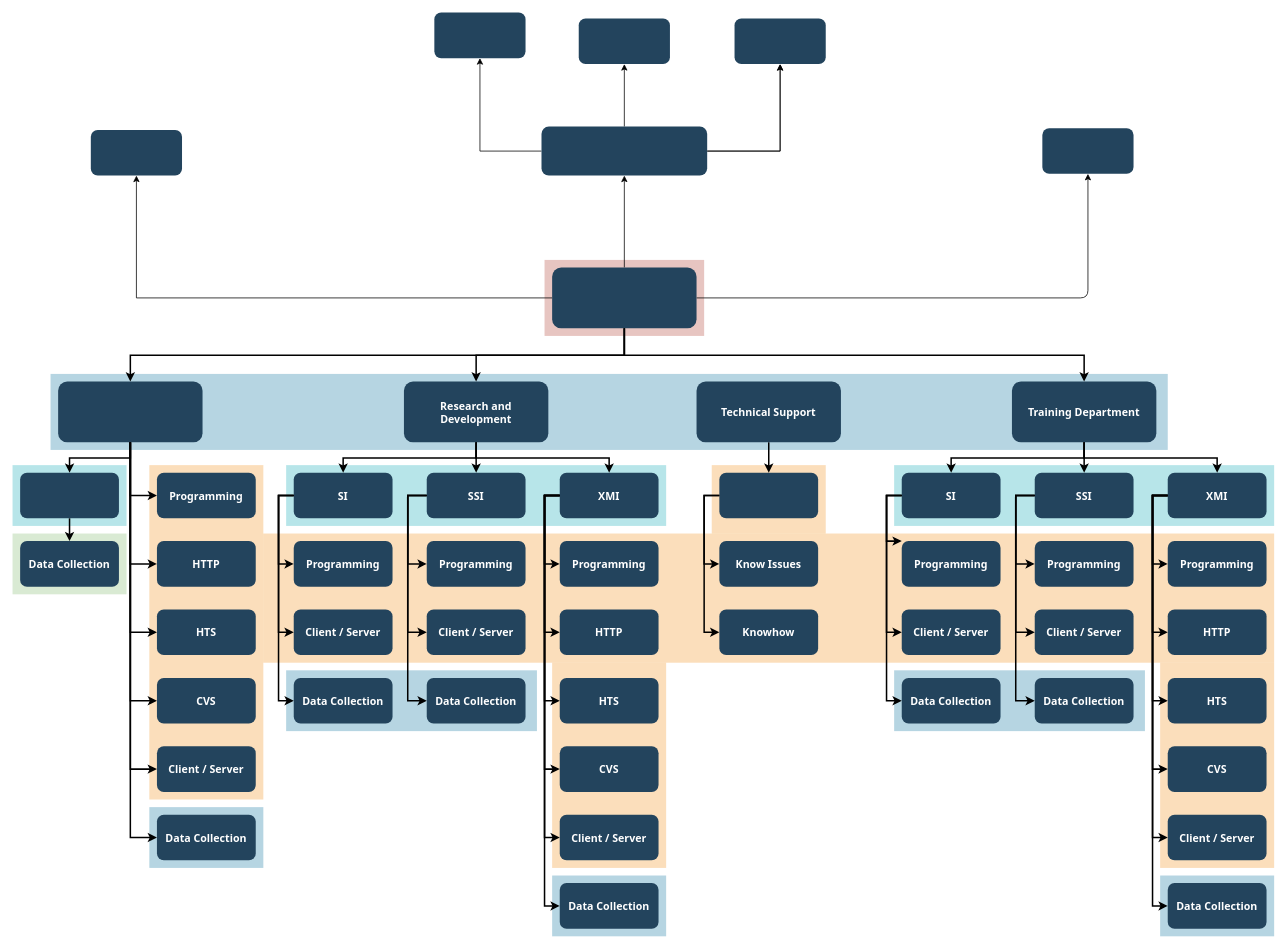
Image size: 1287x948. Some labels were removed from this diagram. The centre of each missing label's shape, as x and y in pixels:
"FAQ" belongs at (768,495).
"Human Resources" belongs at (130,411).
"PROBLEMA CENTRAL" belongs at (624,297).
"Regular Report" belongs at (69,495).
